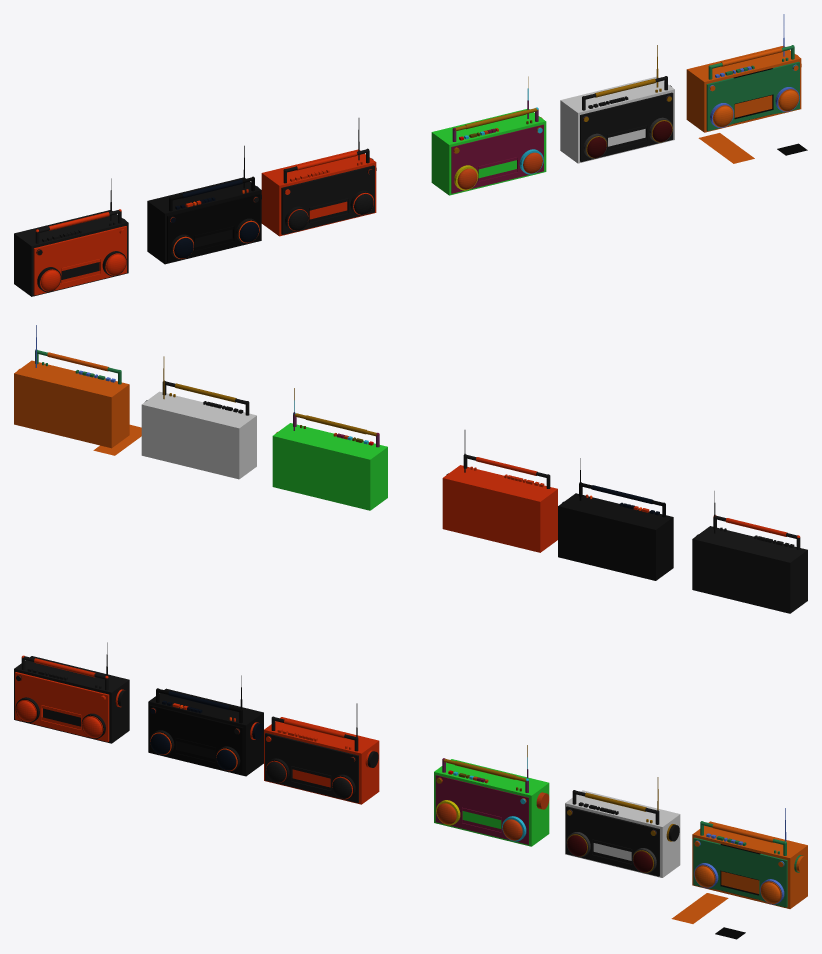
Rendered from Boombox.obj.
The picture shows the model from 3 angles, top to bottom: view 1: azimuth 30°, elevation 25°; view 2: azimuth 150°, elevation 25°; view 3: azimuth 330°, elevation 25°; orthographic projection.
Parts seen in each view (by area): view 1: Cube.056, DarkBoomBox, TemplateBoomBox, Fancy_Boom_Box, Wood_Boom_Box, Cube.020, ColofulBoomBox, Cube.034, Cube.001, Cube.031, Cube.045, Warm_Boom_Box; view 2: Cube.056, Cube.045, Cube.034, Cube.031, Cube.001, Cube.020; view 3: Cube.056, DarkBoomBox, TemplateBoomBox, Wood_Boom_Box, Fancy_Boom_Box, ColofulBoomBox, Warm_Boom_Box, Cube.020, Cube.001, Cube.045, Cube.034, Cube.031.
Boxes of the visible parts, bbox=[...] form: Cube.056: bbox=[686, 46, 801, 163]; DarkBoomBox: bbox=[167, 193, 260, 262]; TemplateBoomBox: bbox=[33, 226, 126, 295]; Fancy_Boom_Box: bbox=[281, 165, 374, 234]; Wood_Boom_Box: bbox=[580, 92, 673, 162]; Cube.020: bbox=[431, 109, 546, 195]; ColofulBoomBox: bbox=[451, 124, 543, 193]; Cube.034: bbox=[261, 149, 376, 236]; Cube.001: bbox=[147, 177, 261, 264]; Cube.031: bbox=[14, 210, 128, 296]; Cube.045: bbox=[560, 76, 674, 163]; Warm_Boom_Box: bbox=[706, 61, 799, 131]; Cube.056: bbox=[14, 360, 141, 455]; Cube.045: bbox=[141, 391, 256, 479]; Cube.034: bbox=[442, 465, 557, 552]; Cube.031: bbox=[692, 526, 807, 613]; Cube.001: bbox=[558, 493, 673, 580]; Cube.020: bbox=[272, 423, 387, 510]; Cube.056: bbox=[671, 821, 807, 923]; DarkBoomBox: bbox=[149, 704, 243, 774]; TemplateBoomBox: bbox=[15, 672, 109, 741]; Wood_Boom_Box: bbox=[566, 806, 659, 876]; Fancy_Boom_Box: bbox=[265, 733, 358, 802]; ColofulBoomBox: bbox=[435, 775, 528, 844]; Warm_Boom_Box: bbox=[693, 837, 787, 907]; Cube.020: bbox=[434, 759, 549, 846]; Cube.001: bbox=[148, 688, 263, 776]; Cube.045: bbox=[565, 790, 680, 877]; Cube.034: bbox=[264, 717, 379, 804]; Cube.031: bbox=[14, 656, 129, 743].
Bounding box in the file's own units: 491 × 64.77 × 52.09.
